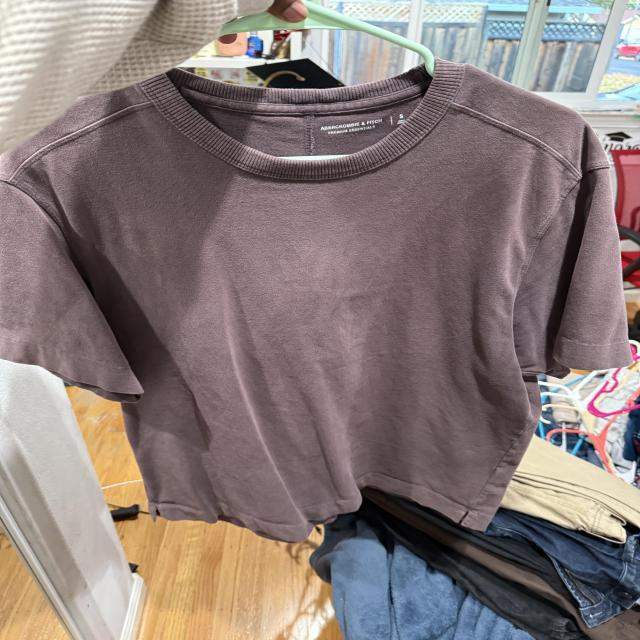back_tag: (317, 112, 422, 142)
